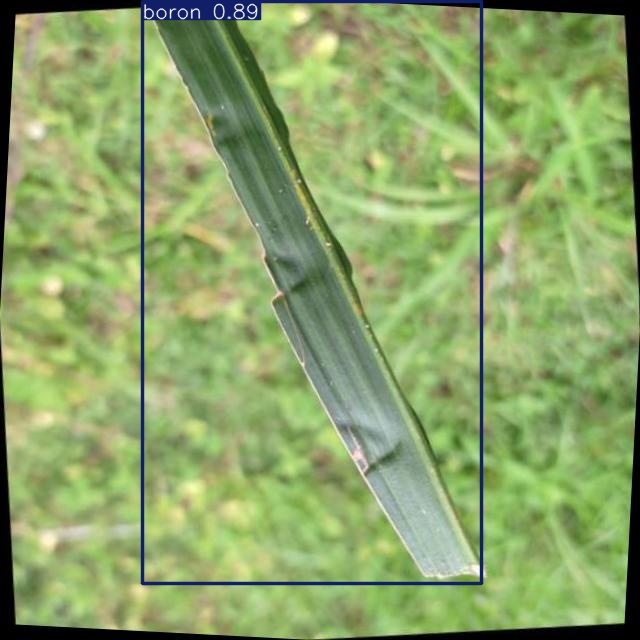nitrogen: (142, 1, 482, 583)
